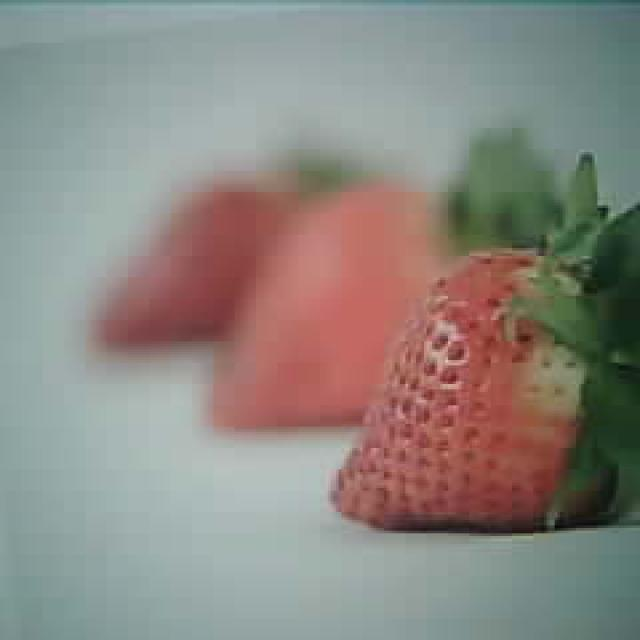ripe: (331, 247, 614, 531)
